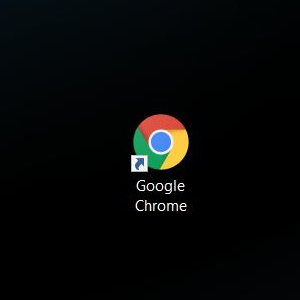chrome: (130, 114, 189, 172)
